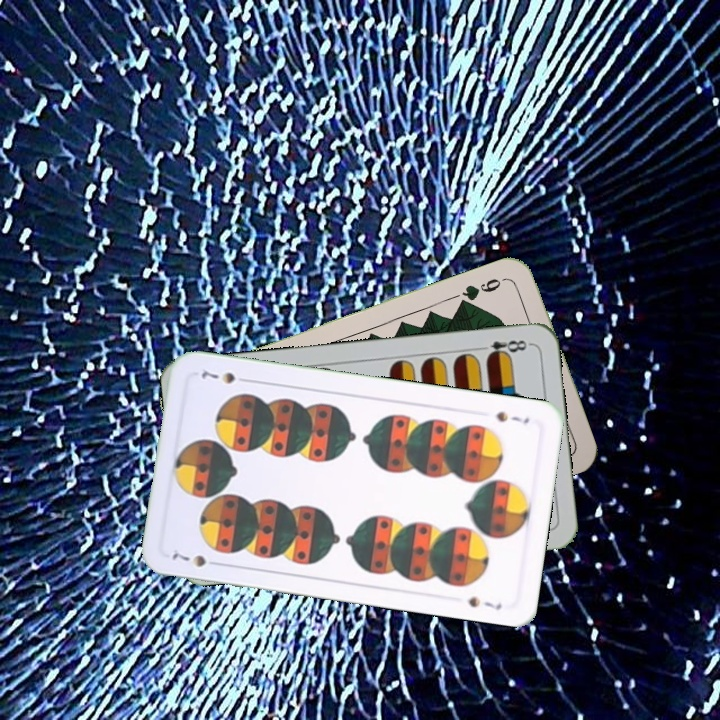E8: (474, 336, 533, 361)
G9: (456, 273, 510, 307)
S7: (168, 548, 224, 570), (492, 407, 532, 426)
